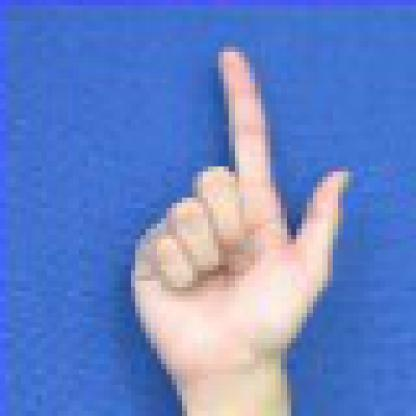seven: (110, 26, 374, 411)
